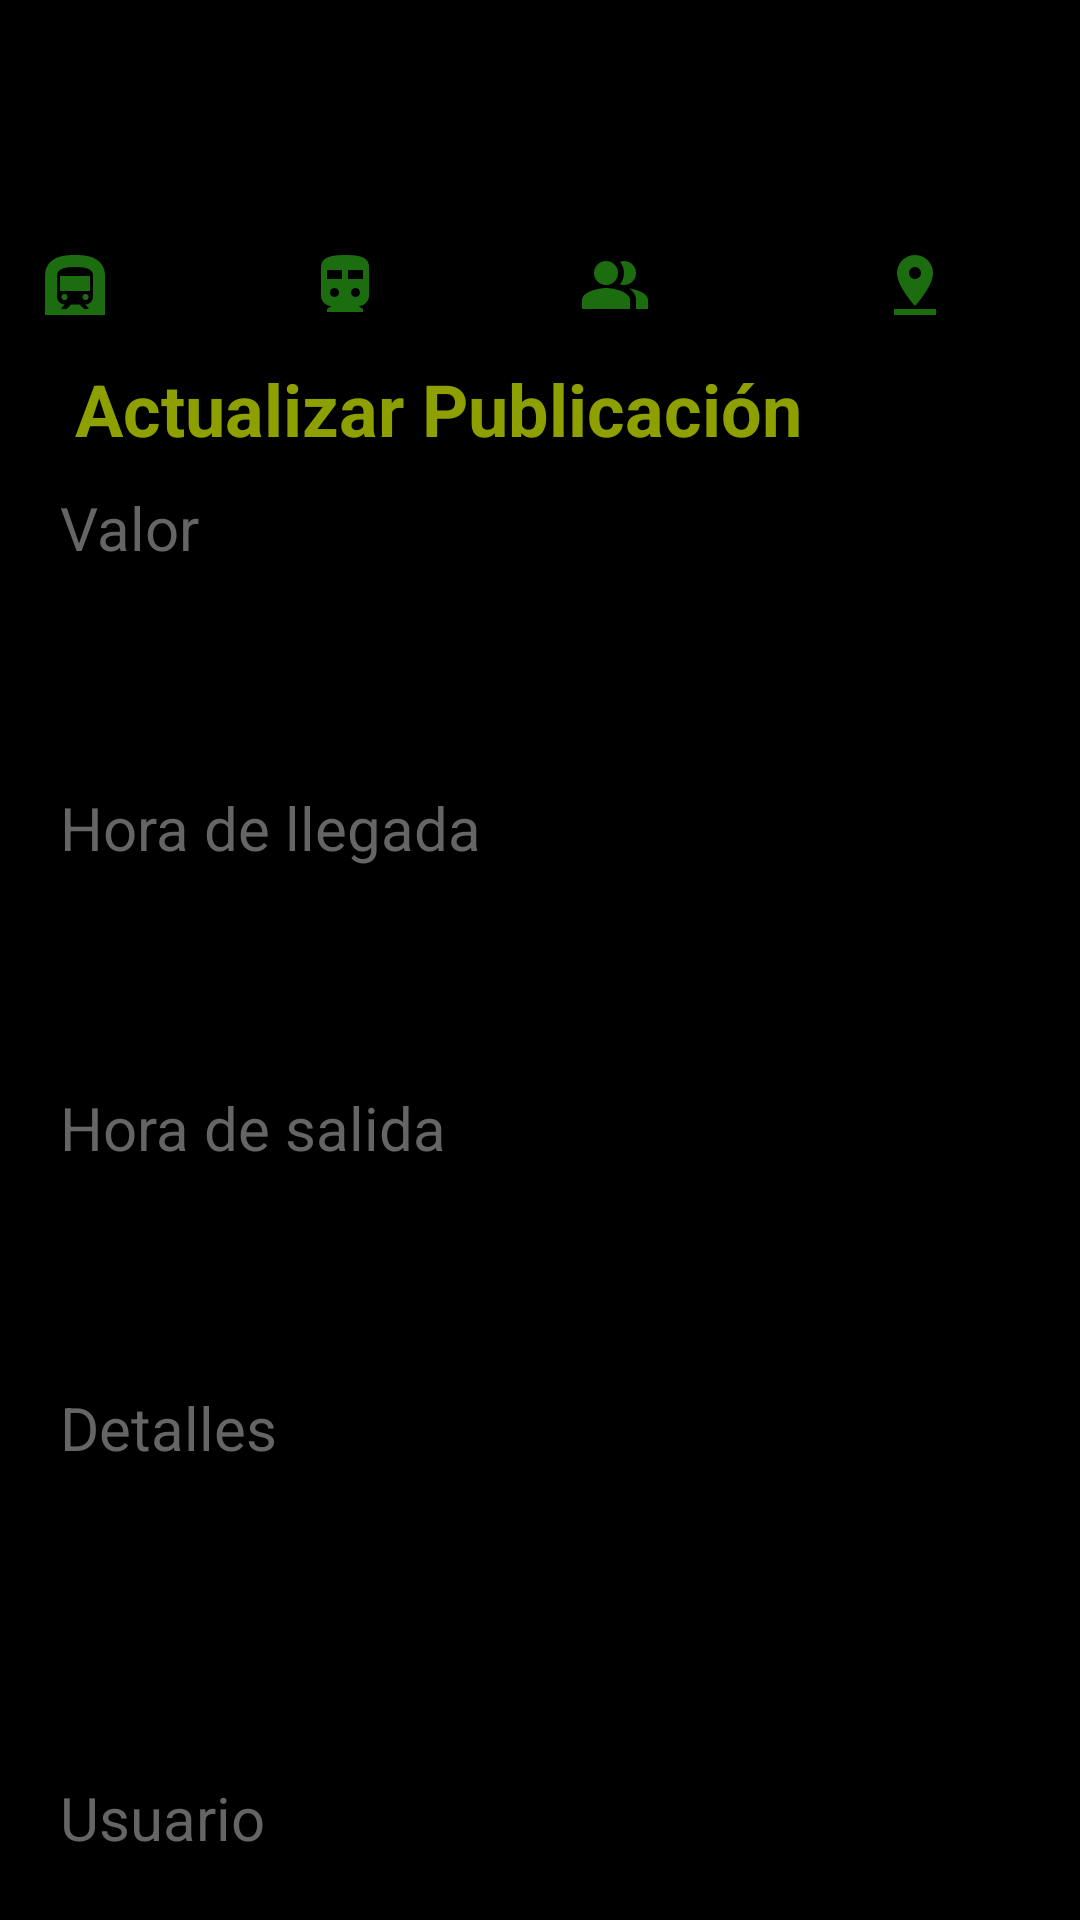

Point at icon controls on the screen. Image size 1080x1920, points as (x=x, y=y).
puntoicono: (x=915, y=285)
usericono: (x=615, y=285)
